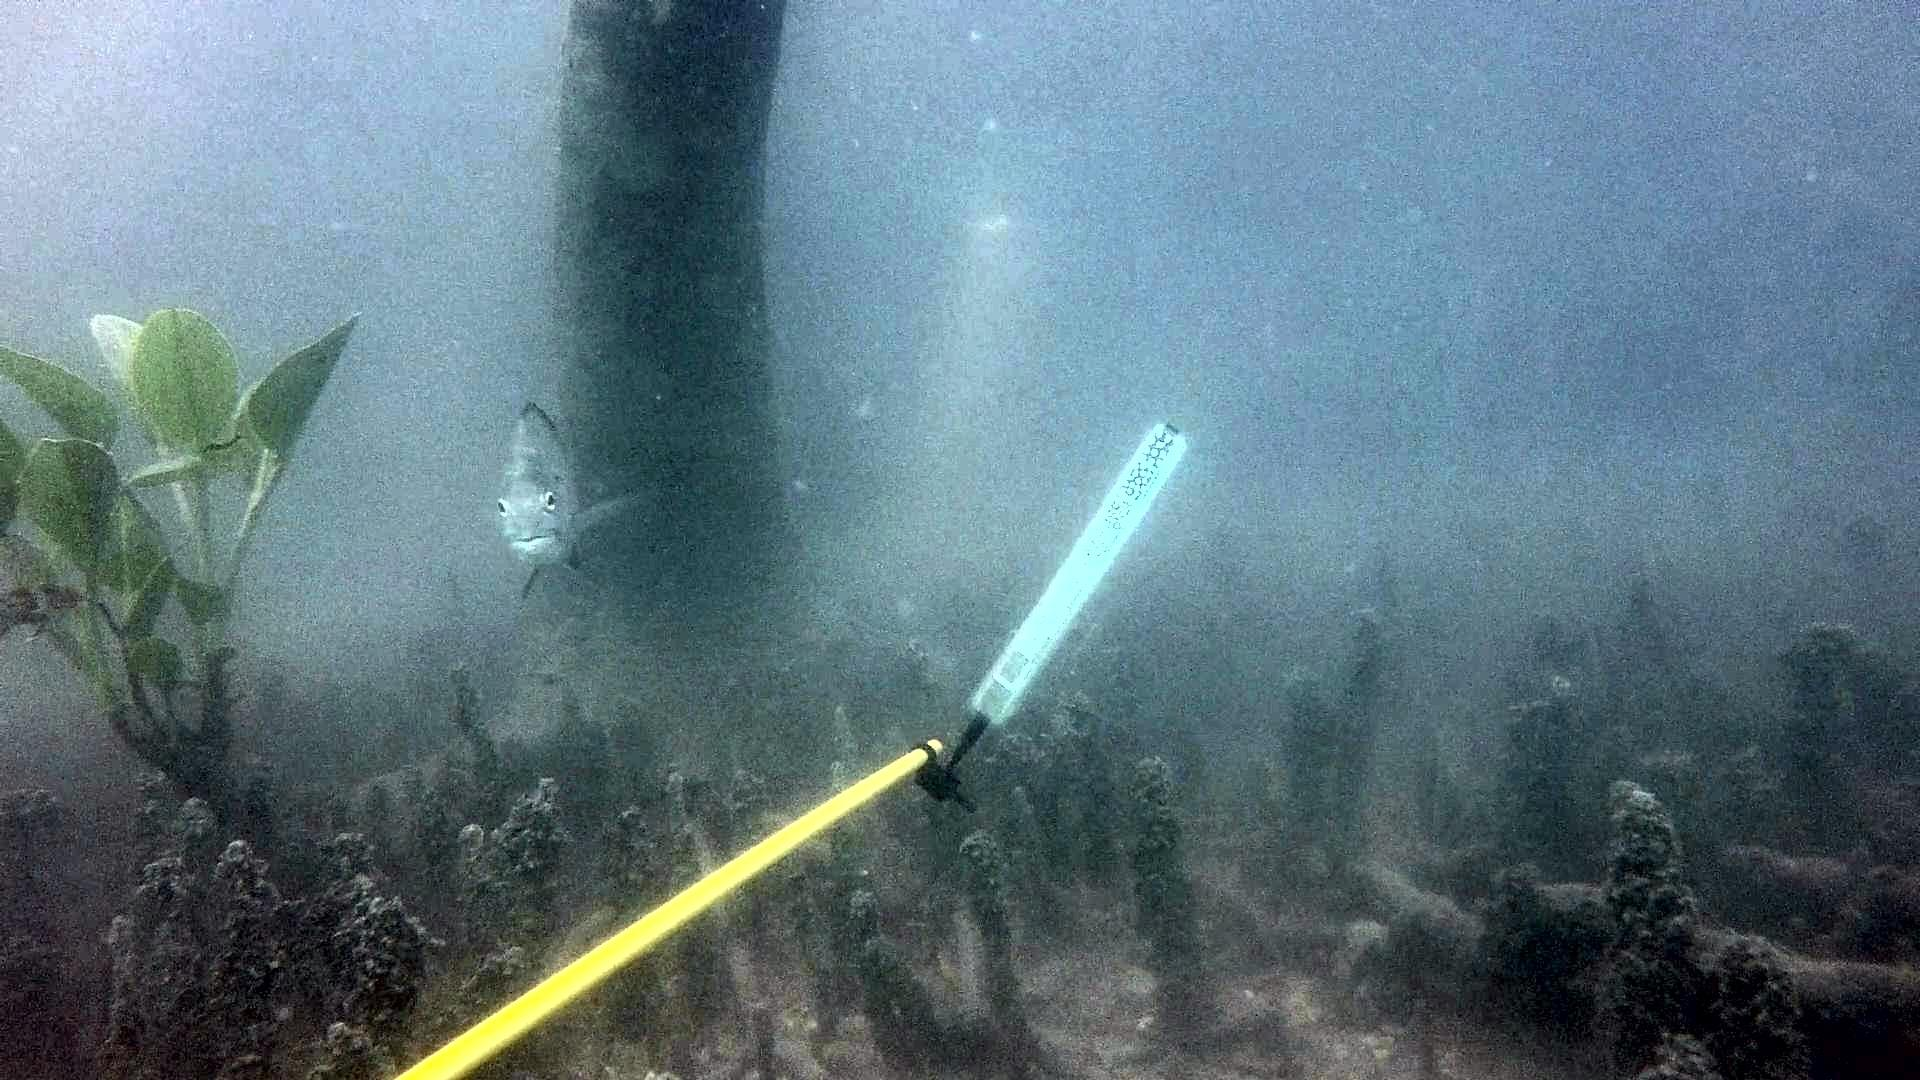acanthopagrus palmaris: (480, 391, 643, 607)
